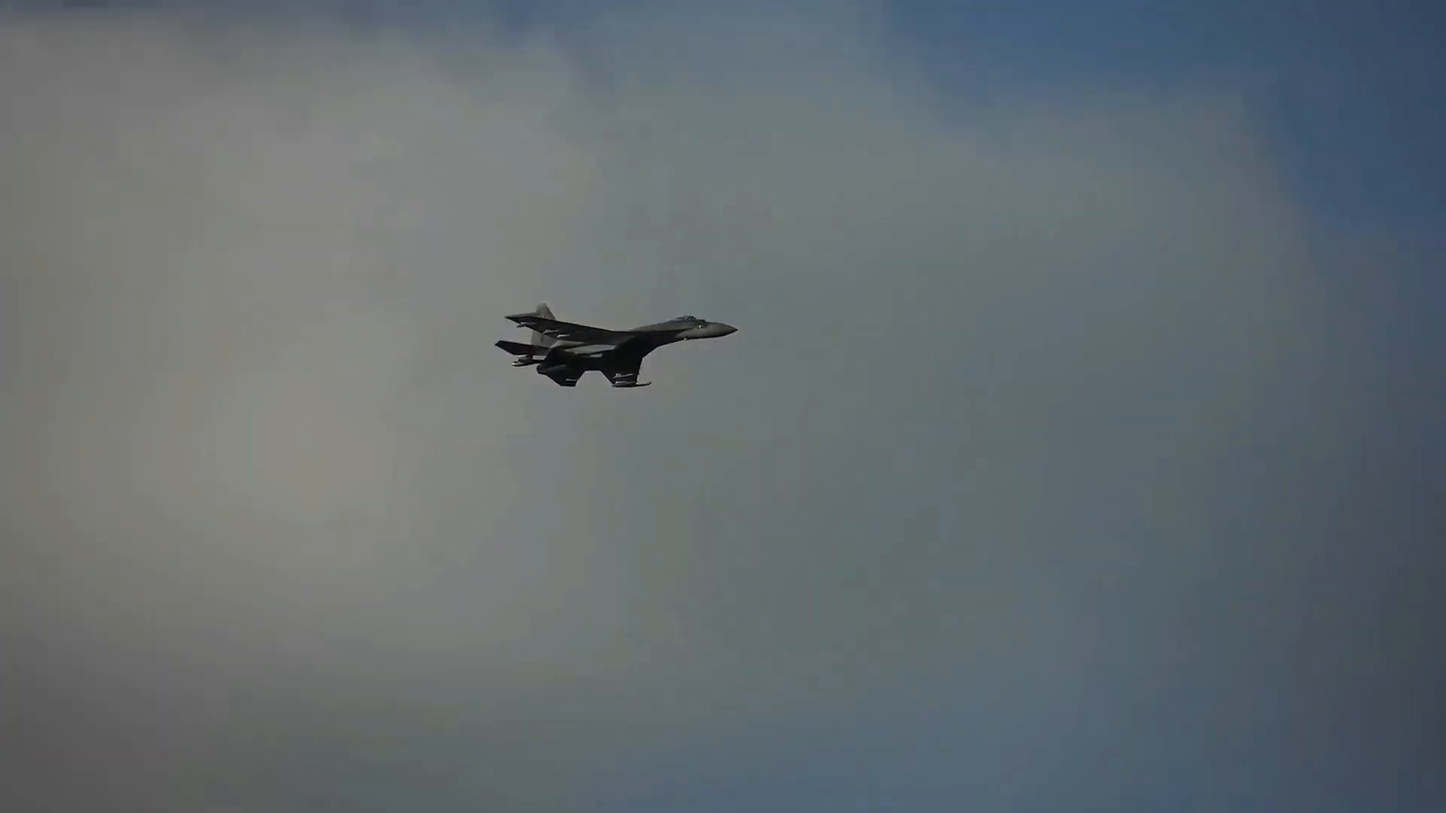Su35: (498, 306, 738, 389)
